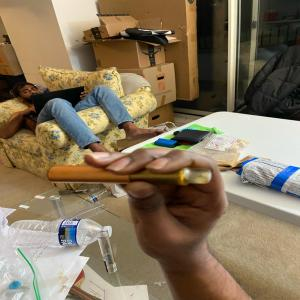Golden-E-Ciggirate: (45, 163, 216, 190)
